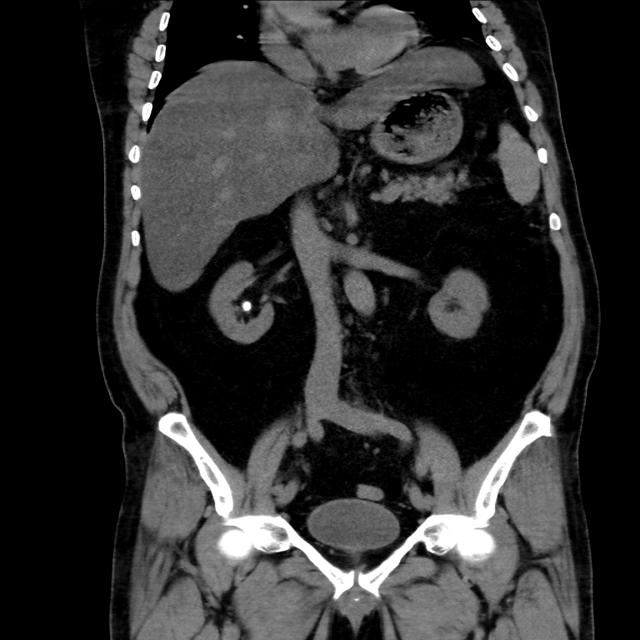kidneystone: (241, 301, 252, 311)
